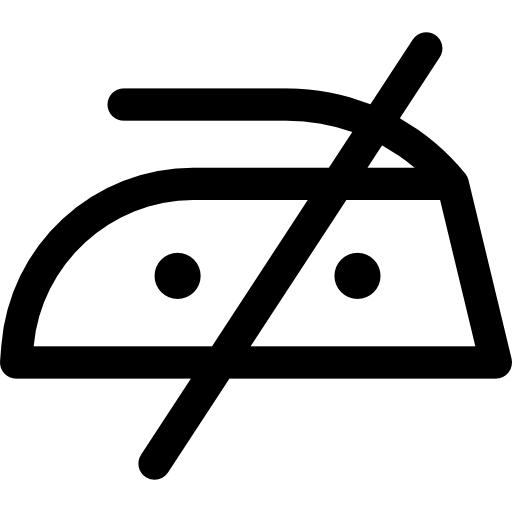do_not_iron: (2, 35, 512, 478)
